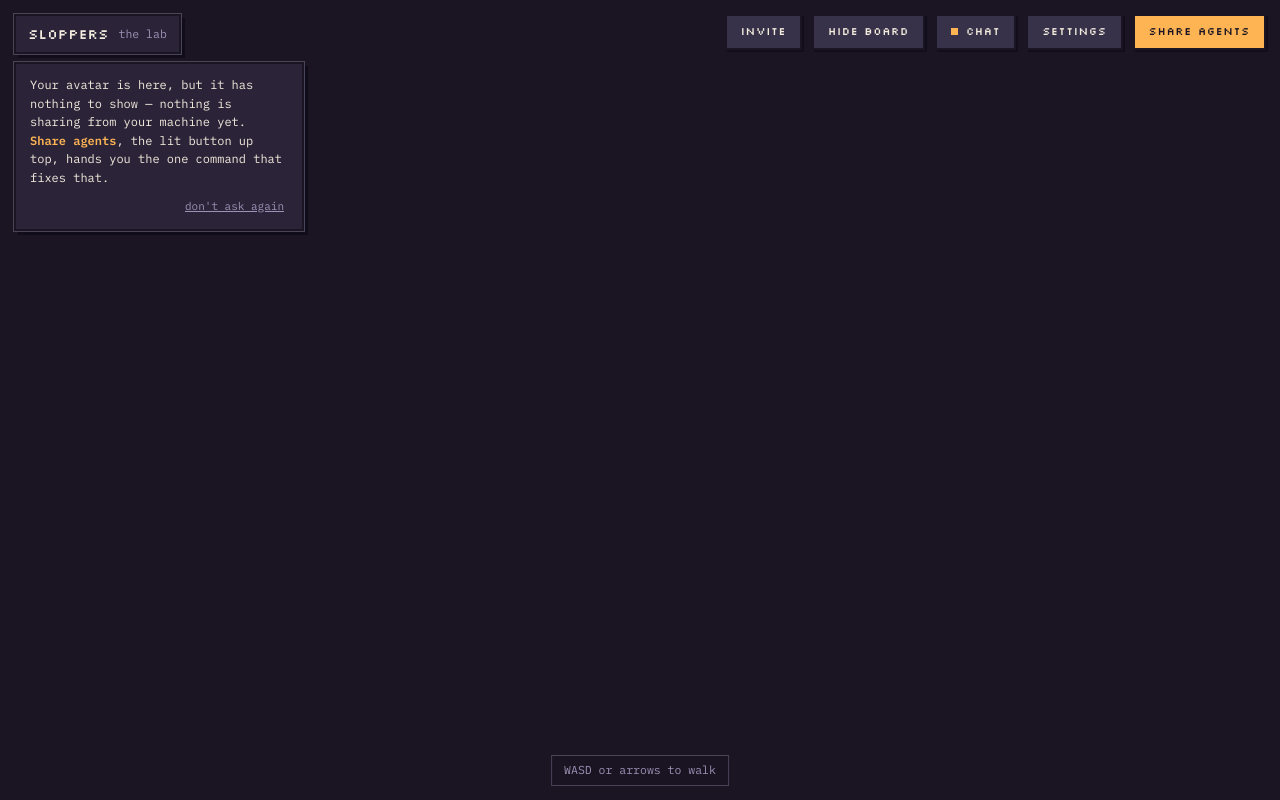
Test: HUD › the chat dot › goes out when the panel is opened, which is what reads it
Click the button with aria-label "Chat, 1 new" at (976, 32), box [935,14,1016,50]
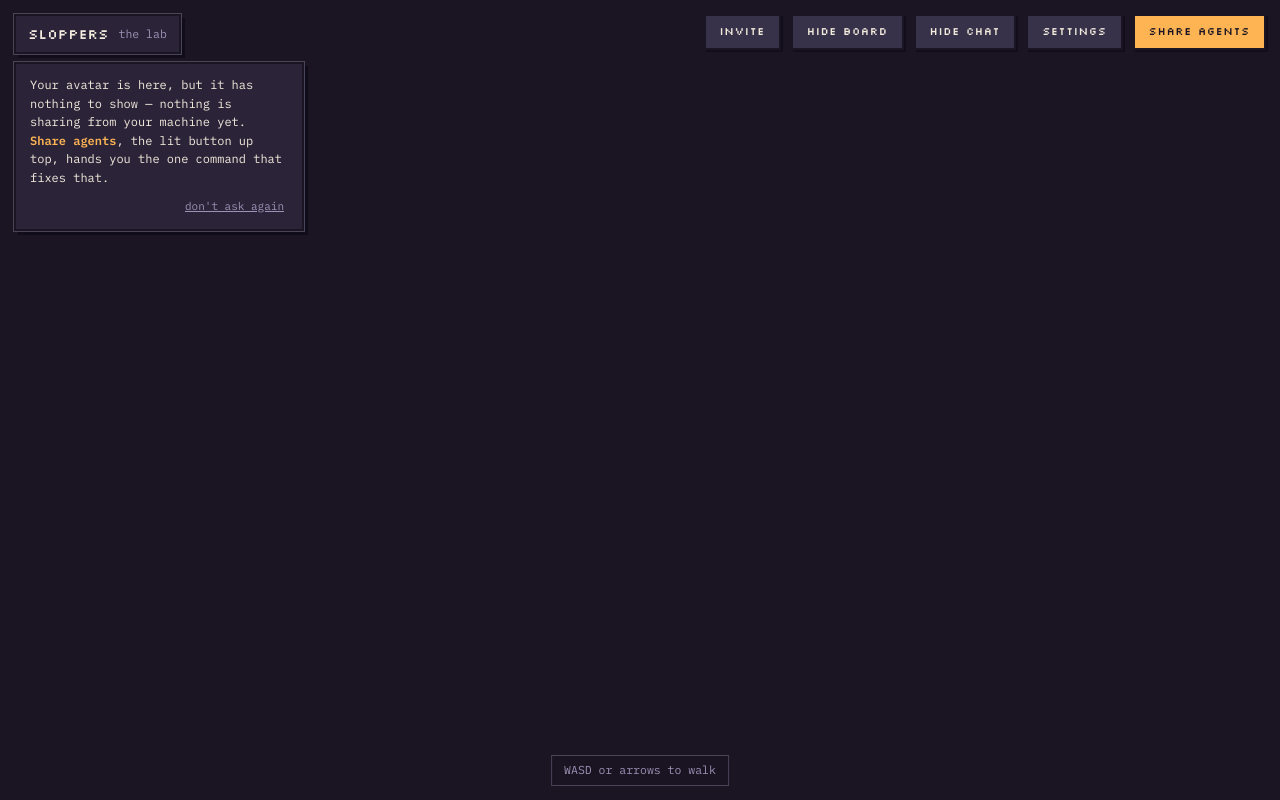
Expected: the icon with class "chat-dot" is gone
Expected: the button "Hide chat" is shown, [914,14,1016,50]
